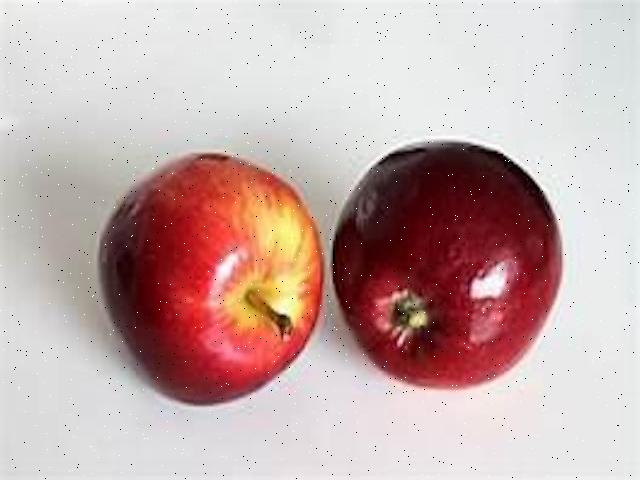apple: (88, 130, 326, 419), (329, 128, 566, 401)
